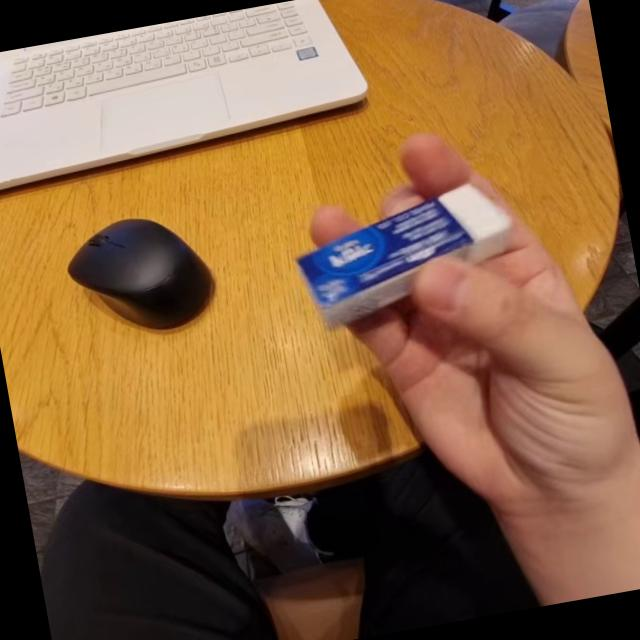eraser: (274, 171, 557, 323)
grab_eraser: (259, 95, 640, 549)
mouse: (53, 195, 228, 352)
